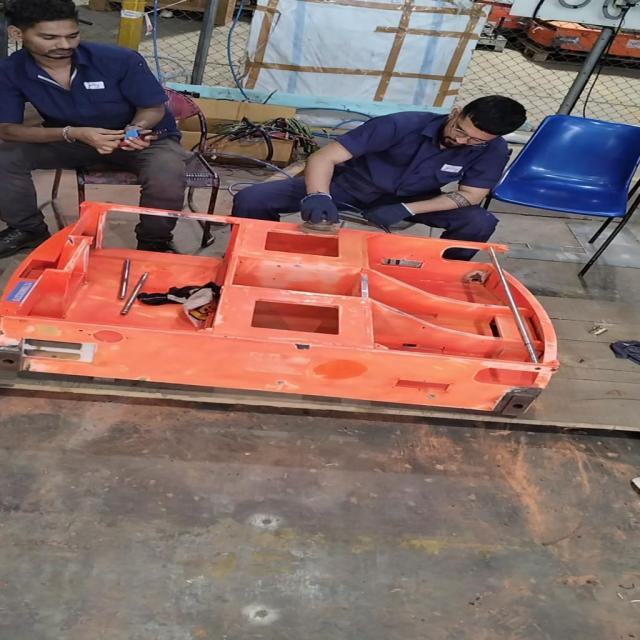Gloves-Detection: (293, 190, 342, 220), (366, 200, 409, 227)
